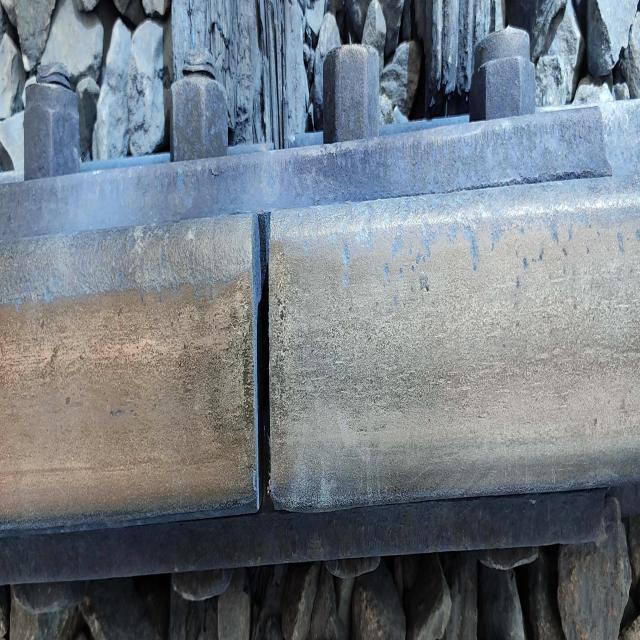Defective Joint: (12, 75, 622, 606)
